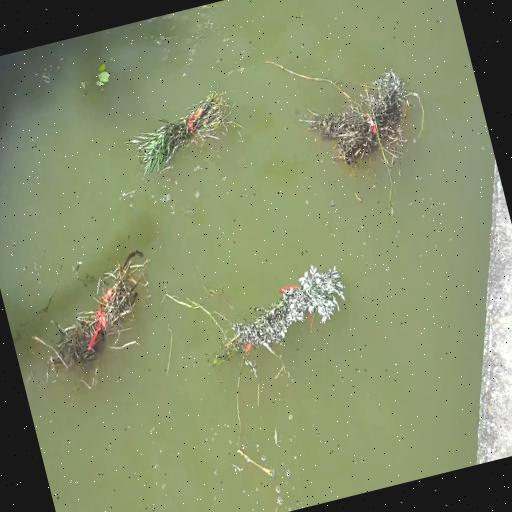twig: (180, 253, 356, 380), (25, 249, 159, 393), (302, 55, 430, 182), (116, 87, 254, 196), (73, 54, 124, 116)
